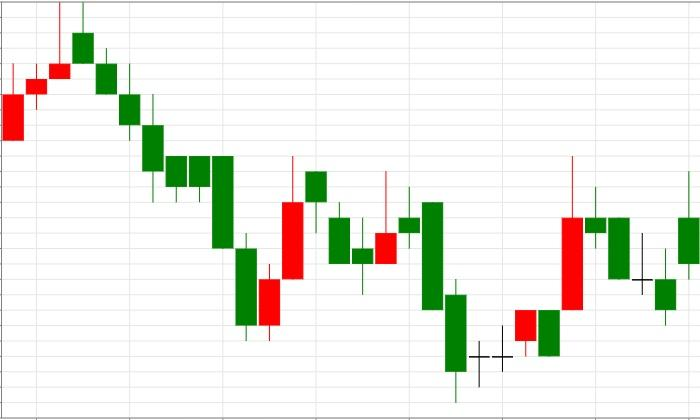three_black_crows_fall: (3, 3, 141, 142)
